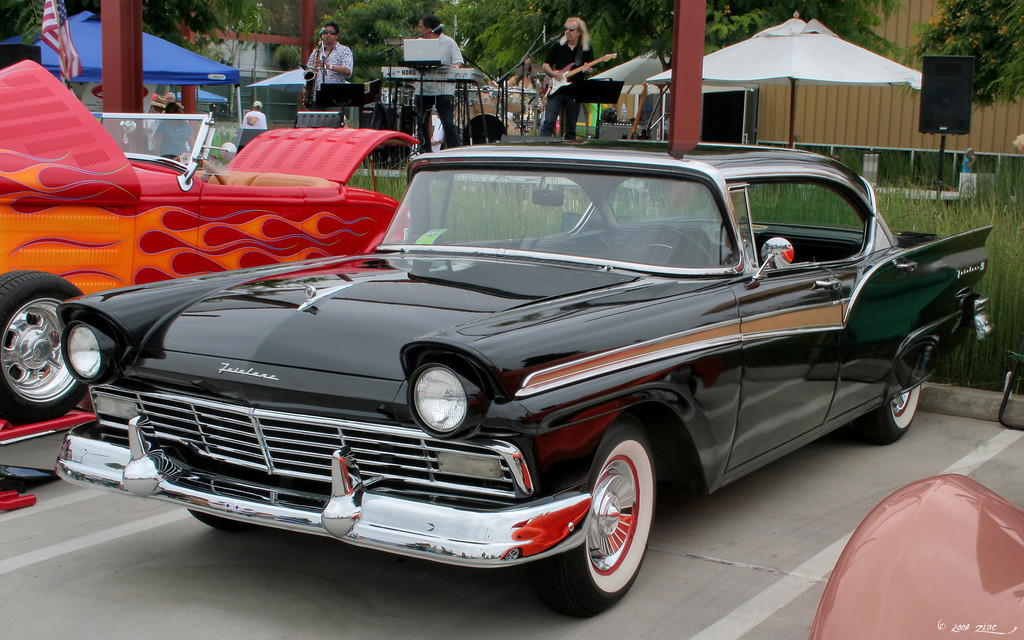Car: (50, 137, 993, 609), (0, 58, 416, 422), (789, 474, 1023, 639)
